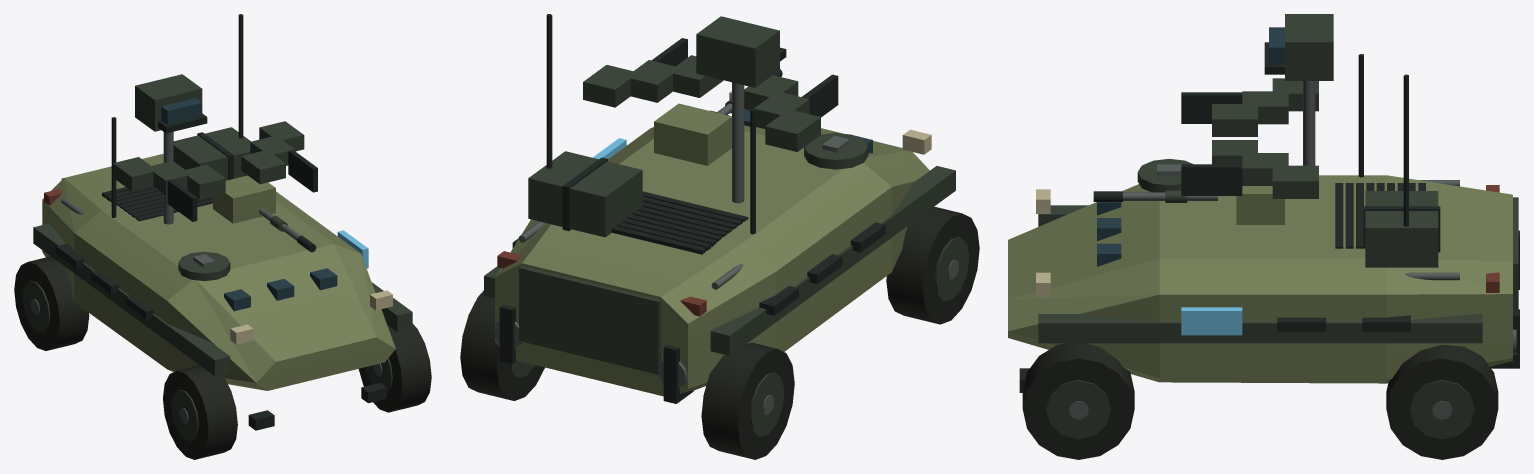
Rendered from reconVehicle.glb.
3 renders of one model, left to right at view 1: azimuth 30°, elevation 25°; view 2: azimuth 150°, elevation 25°; view 3: azimuth 270°, elevation 25°, orthographic. The views are drawn at different scales.
Visible parts, largest first — view 1: armor (×2), equipment (×3), glass (×2); view 2: equipment (×2), armor (×2); view 3: armor (×2), equipment (×3), glass (×2), marking.
Boxes of the visible parts, box(x1,y1,x2,y2) form: armor (×2): box(42, 153, 395, 390); equipment (×3): box(14, 14, 431, 459); glass (×2): box(161, 98, 337, 311); equipment (×2): box(460, 14, 979, 459); armor (×2): box(495, 103, 929, 396); armor (×2): box(1008, 175, 1512, 383); equipment (×3): box(1019, 14, 1519, 459); glass (×2): box(1097, 27, 1284, 266); marking: box(1181, 307, 1242, 335).
Size of the model in its own units: 2.64 by 3.3 by 4.21.
